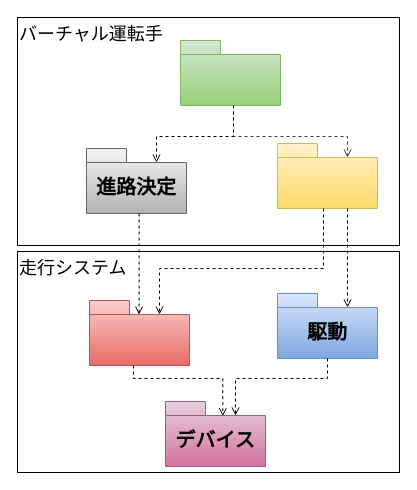
Some shapes in this 417 by 490 pixel diagram are drawn without their labels. Each missing label, with the centre of its shape:
"意思決定" belongs at (230,73).
"知覚" belongs at (139,333).
"走行" belongs at (327,175).
